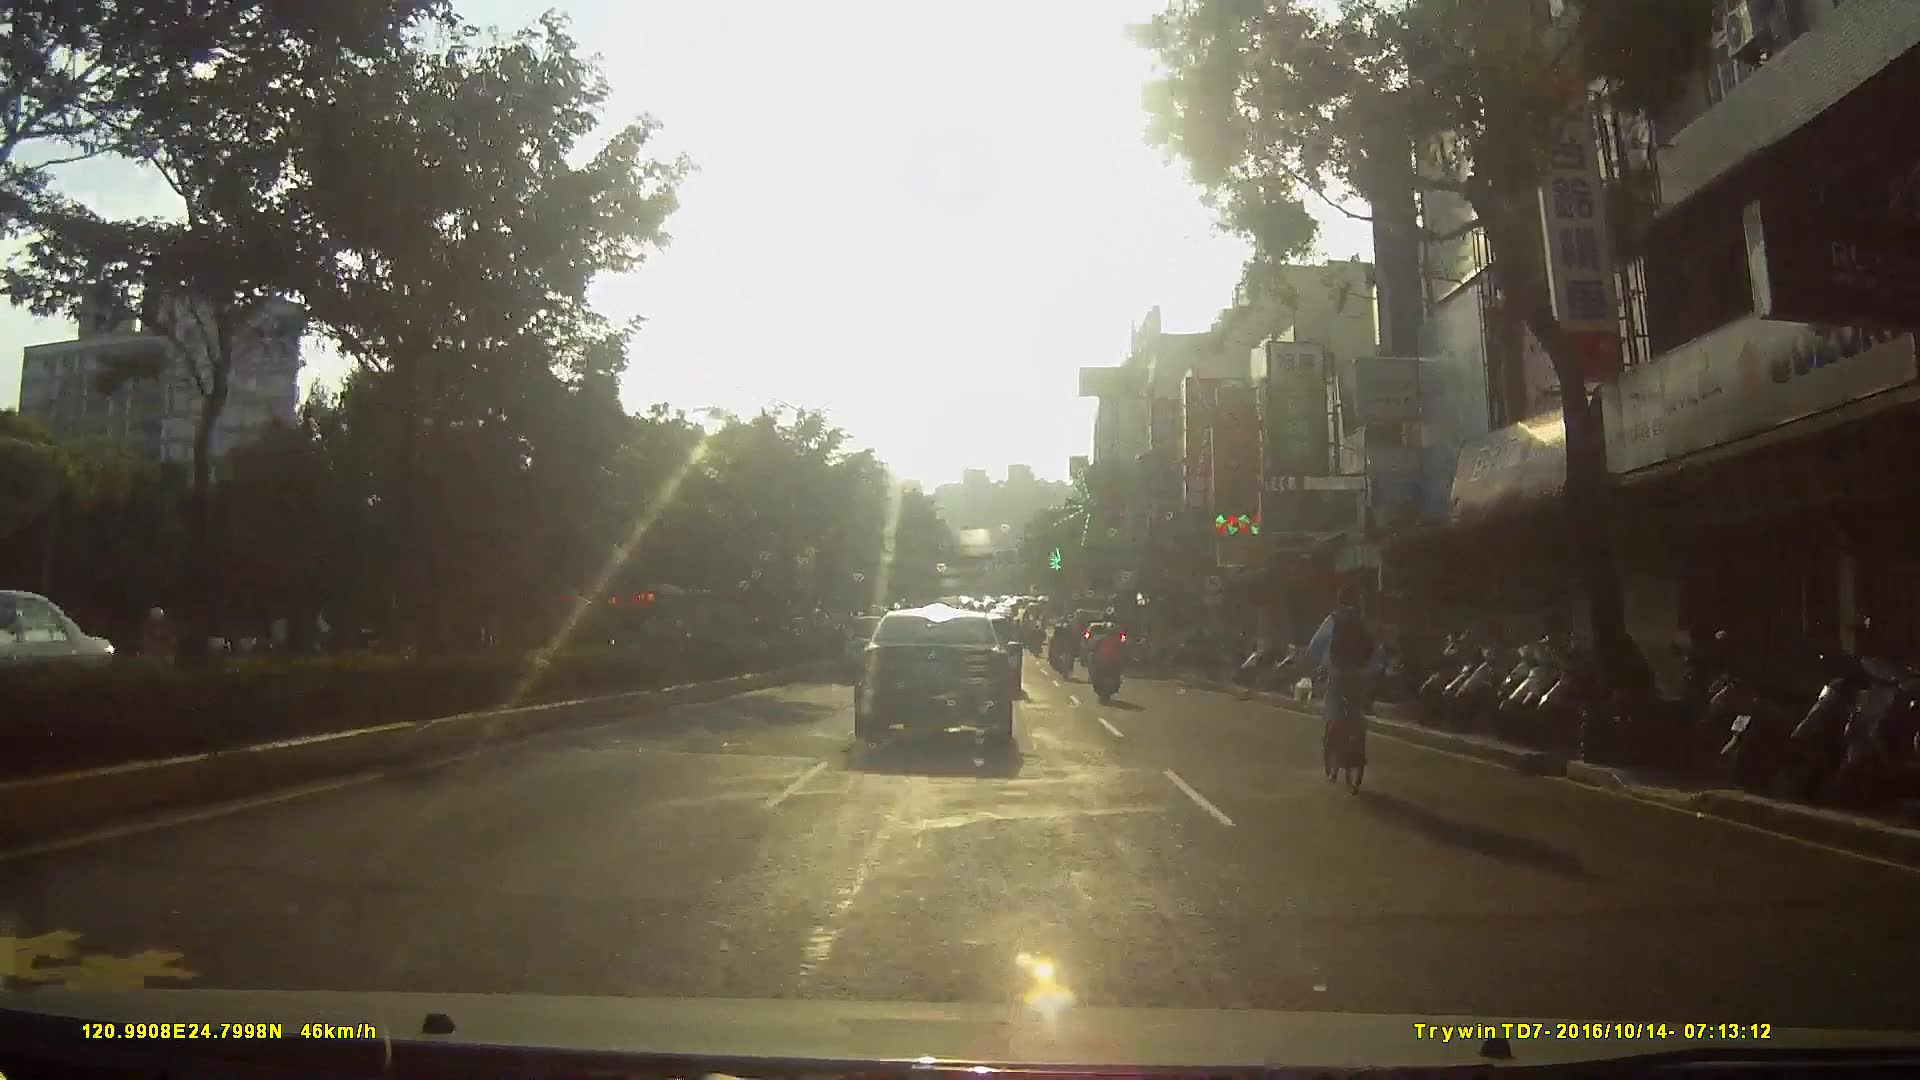rider: (1303, 582, 1387, 791), (1088, 624, 1123, 709), (1049, 621, 1076, 680)
vehicle: (853, 603, 1032, 767), (1, 598, 127, 714)
